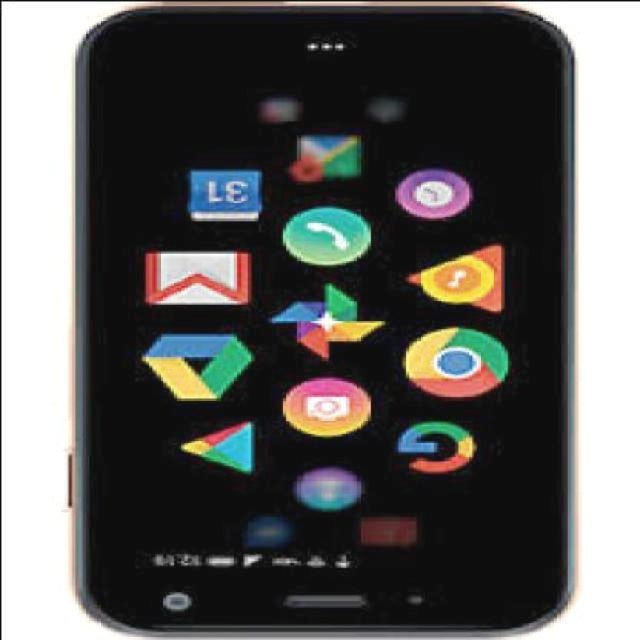phone: (71, 2, 577, 638)
